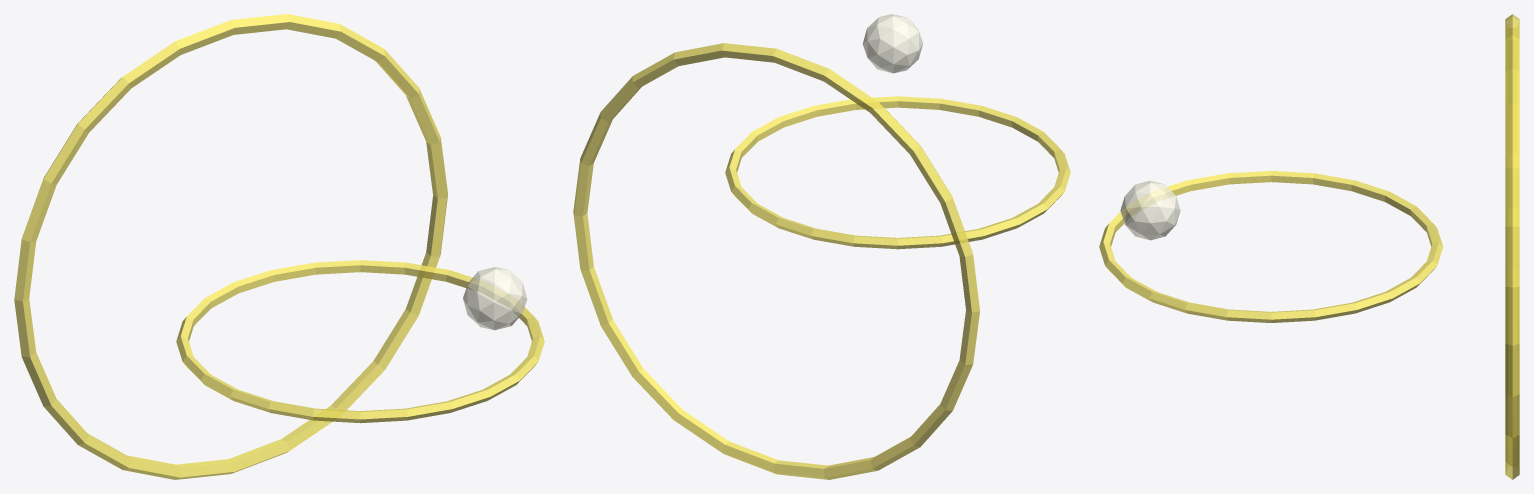
File: vfx_buff_aura_gold.glb
3 renders of one model, left to right at view 1: azimuth 30°, elevation 25°; view 2: azimuth 150°, elevation 25°; view 3: azimuth 270°, elevation 25°, orthographic. The views are drawn at different scales.
Parts seen in each view (by area): view 1: floor, mid, spark; view 2: floor, mid, spark; view 3: mid, floor, spark.
Part boxes in pixels (x1,y1,x2,y2): floor: [14, 14, 447, 479]; mid: [176, 260, 544, 423]; spark: [463, 267, 527, 330]; floor: [573, 43, 979, 479]; mid: [725, 96, 1070, 249]; spark: [862, 14, 922, 73]; mid: [1099, 171, 1442, 322]; floor: [1505, 14, 1519, 479]; spark: [1120, 180, 1180, 240].
Size of the model in its own units: 1.55 by 1.55 by 1.39.
